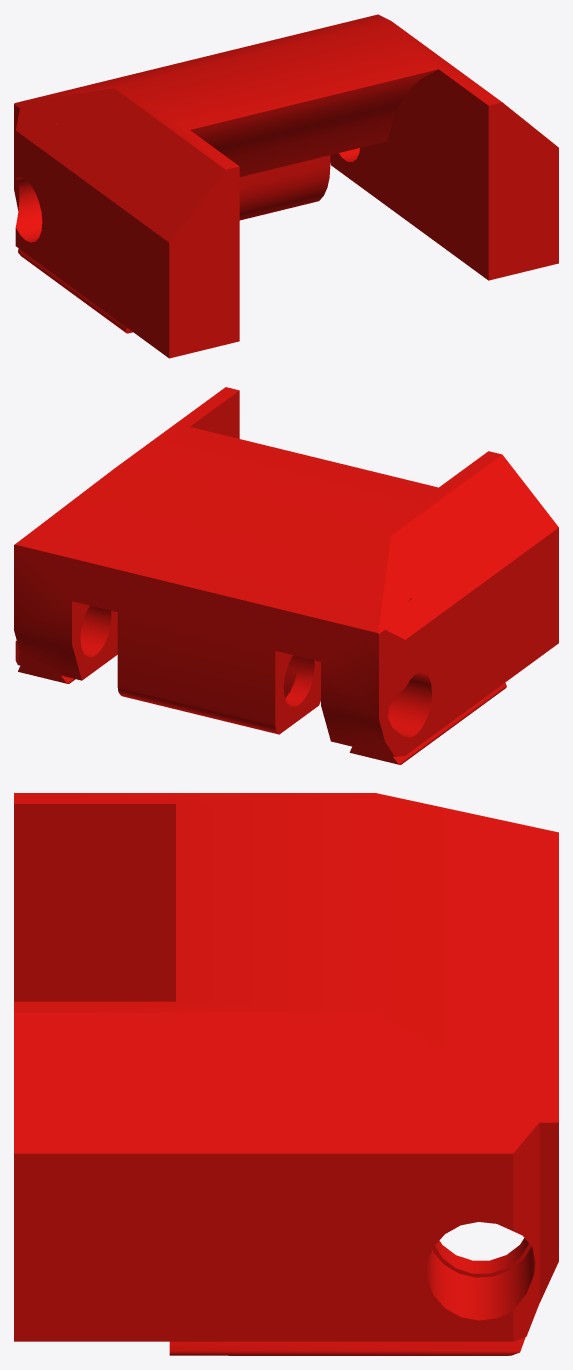
The model's file is kabina.fbx.
3 views of the same model, one above another, from view 1: azimuth 30°, elevation 25°; view 2: azimuth 150°, elevation 25°; view 3: azimuth 270°, elevation 25° (orthographic). The views are drawn at different scales.
Parts seen in each view (by area): view 1: kabina.001; view 2: kabina.001; view 3: kabina.001.
Boxes of the visible parts, x1,y1,x2,y2 form: kabina.001: [14, 14, 558, 358]; kabina.001: [14, 387, 558, 764]; kabina.001: [14, 793, 558, 1355].
Size of the model in its own units: 9.4 by 4.3 by 7.
1 material, 1 textured.
